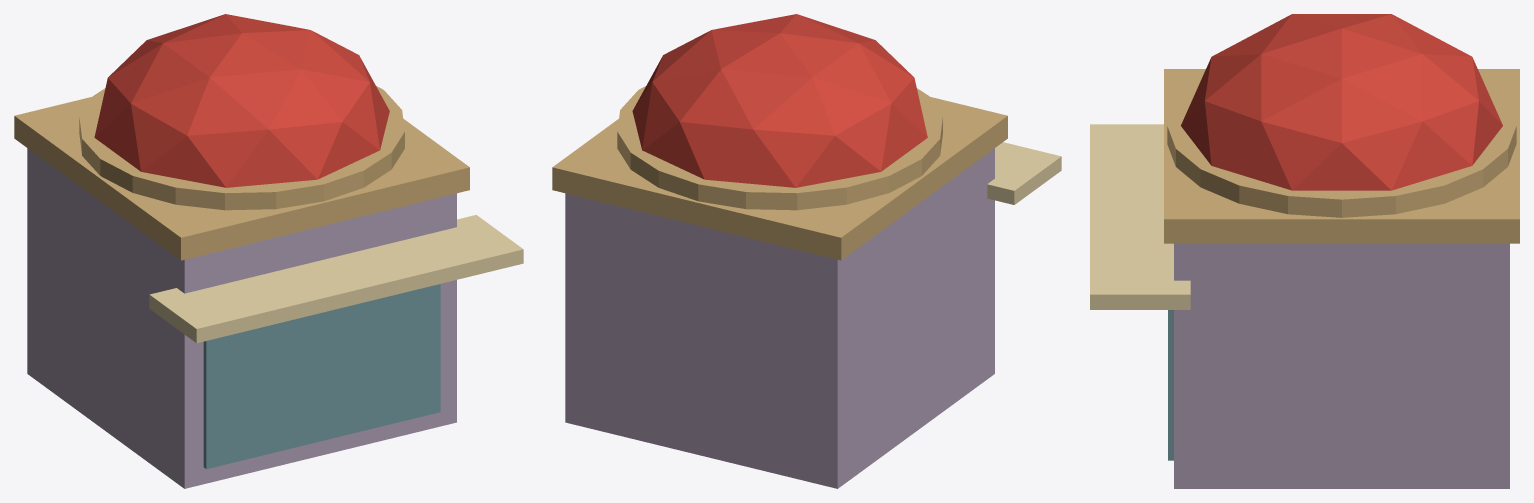
3 renders of one model, left to right at view 1: azimuth 30°, elevation 25°; view 2: azimuth 150°, elevation 25°; view 3: azimuth 270°, elevation 25°, orthographic. The views are drawn at different scales.
Parts seen in each view (by area): view 1: RC-012 Cupola neighborhood kiosk batched; view 2: RC-012 Cupola neighborhood kiosk batched; view 3: RC-012 Cupola neighborhood kiosk batched.
Part boxes in pixels (x1,y1,x2,y2): RC-012 Cupola neighborhood kiosk batched: (14, 14, 523, 488); RC-012 Cupola neighborhood kiosk batched: (552, 14, 1061, 488); RC-012 Cupola neighborhood kiosk batched: (1090, 14, 1519, 488).
Size of the model in its own units: 6 by 6.4 by 6.4.
